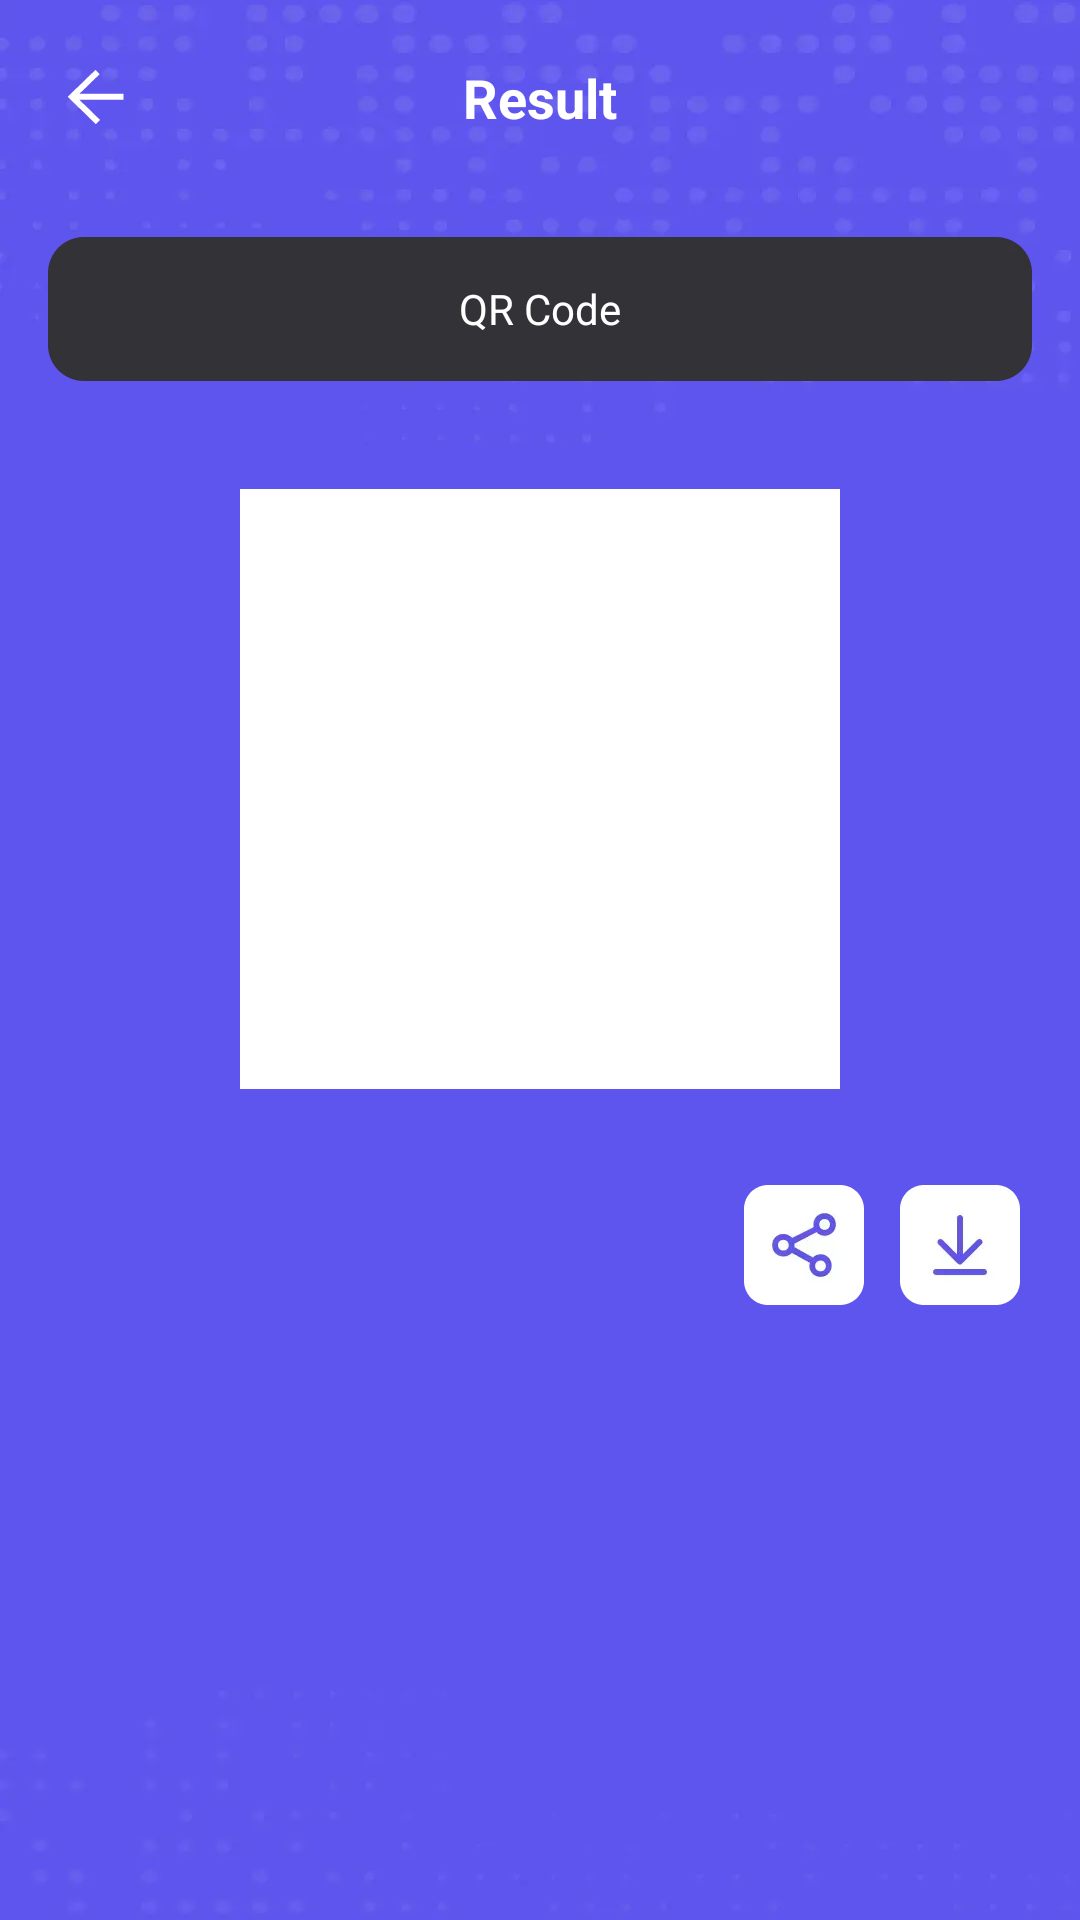

Where icons sit on this 1080×1920 app screen, as (x1, y1, x2, y2):
back: (68, 70, 124, 124)
dowload: (900, 1185, 1020, 1305)
share: (744, 1185, 864, 1305)
